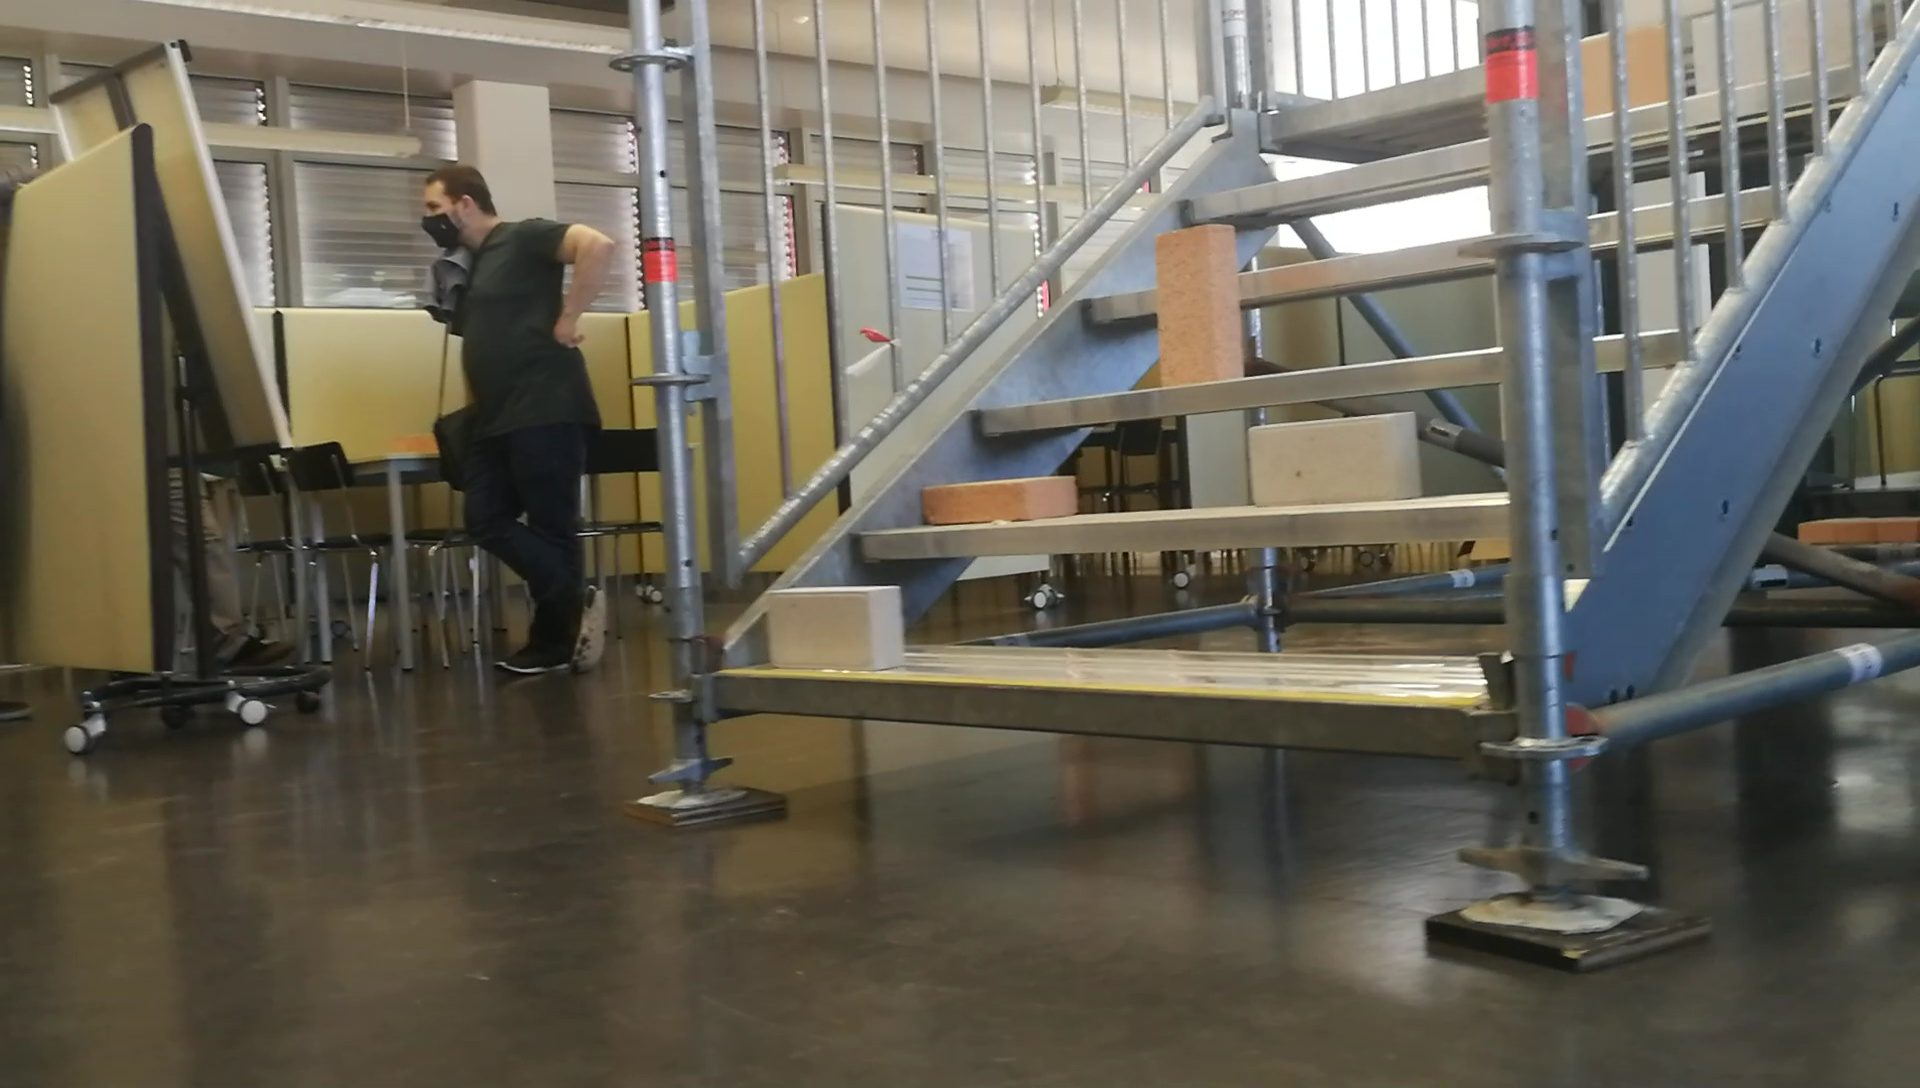brick: (1251, 413, 1414, 506), (1156, 228, 1241, 382), (767, 583, 901, 670), (923, 473, 1071, 522)
edge: (713, 673, 1480, 761)
stairs: (607, 0, 1590, 977)
